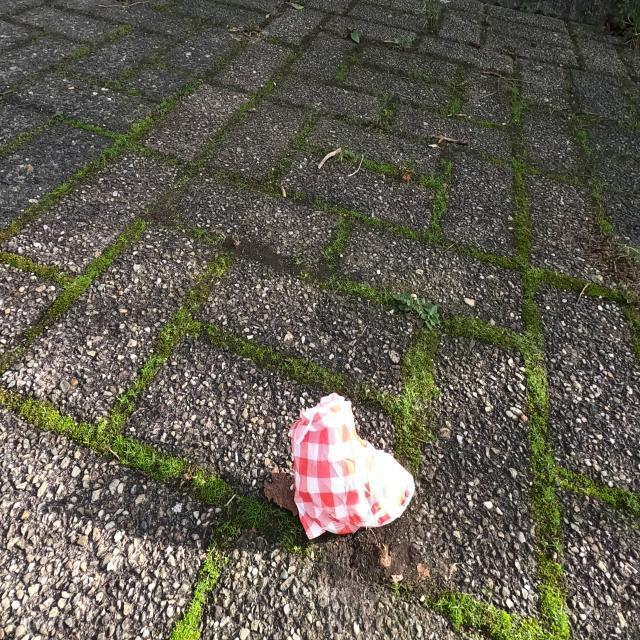Paper: (288, 392, 416, 542)
